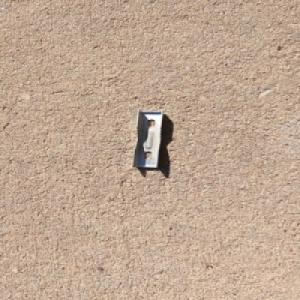ClampPart: (130, 108, 167, 169)
